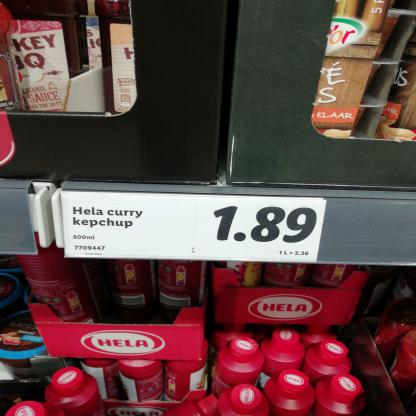prtg: (61, 193, 328, 264)
